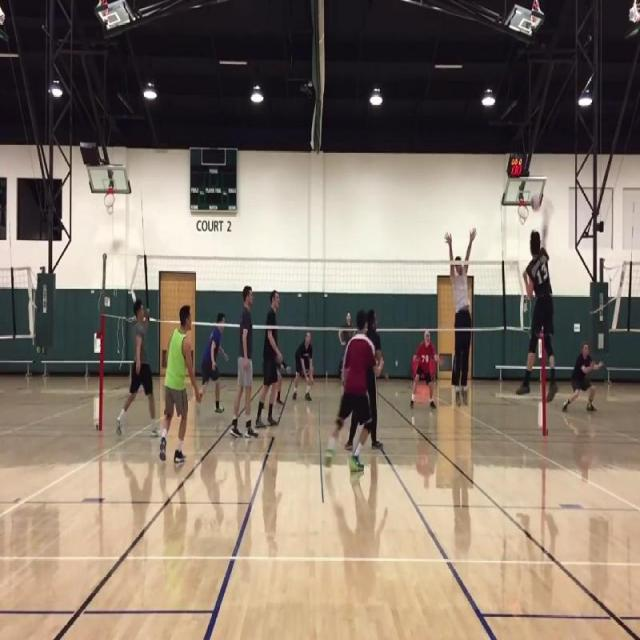volleyball: (531, 193, 540, 210)
